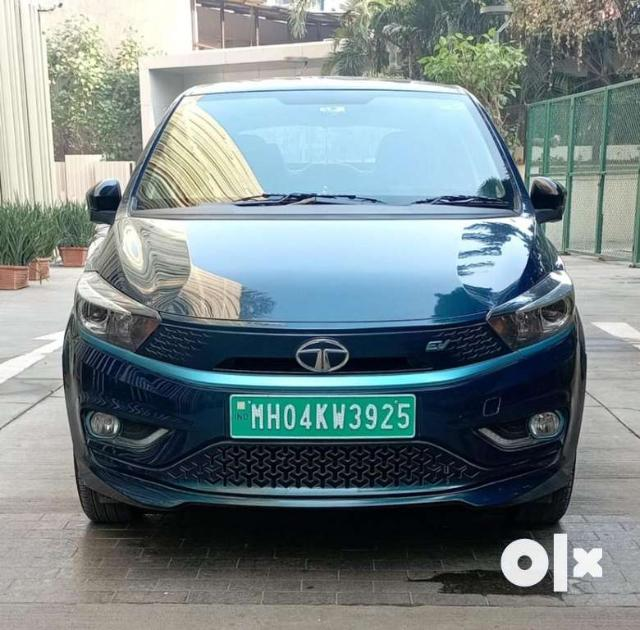Indian_Number_Plate: (228, 394, 417, 438)
